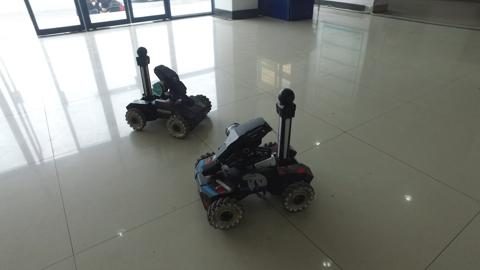chariot: (185, 87, 322, 234), (119, 46, 212, 140)
